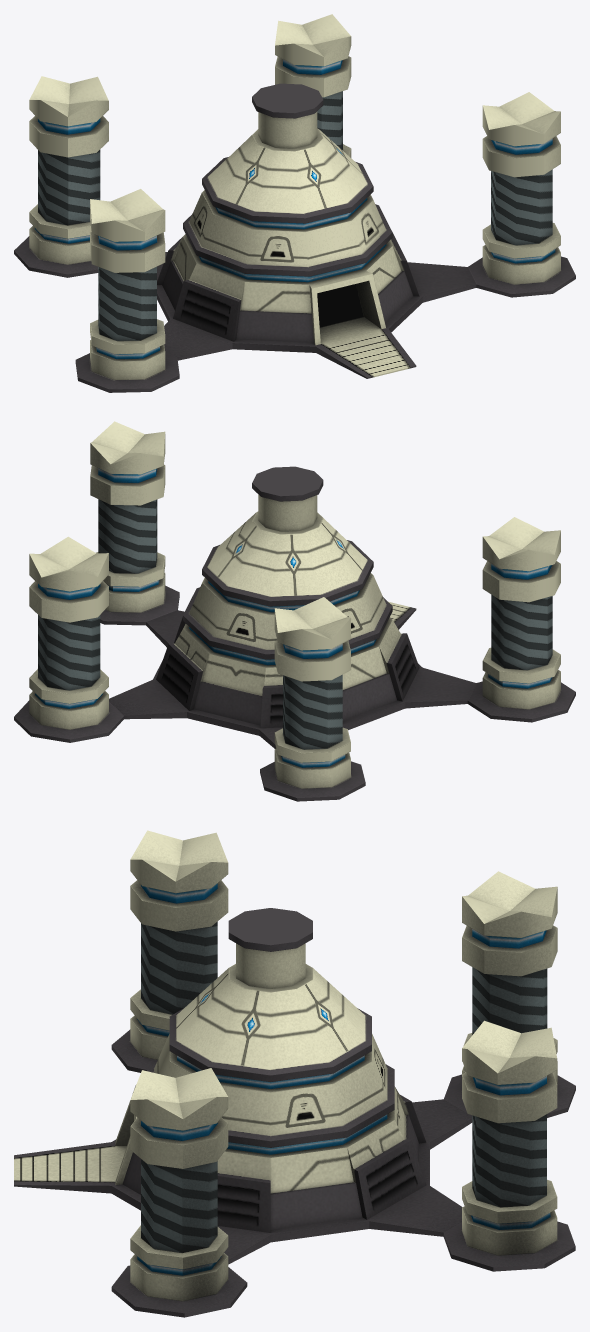
The picture shows the model from 3 angles, top to bottom: view 1: azimuth 30°, elevation 25°; view 2: azimuth 150°, elevation 25°; view 3: azimuth 270°, elevation 25°; orthographic projection. The views are drawn at different scales.
Visible parts, largest first — view 1: base; view 2: base; view 3: base.
Boxes of the visible parts, box(x1,y1,x2,y2) form: base: box(14, 14, 575, 392); base: box(14, 421, 575, 801); base: box(14, 830, 575, 1317).
Size of the model in its own units: 215 by 83.23 by 173.
Materials: 1 (1 with a texture image).
